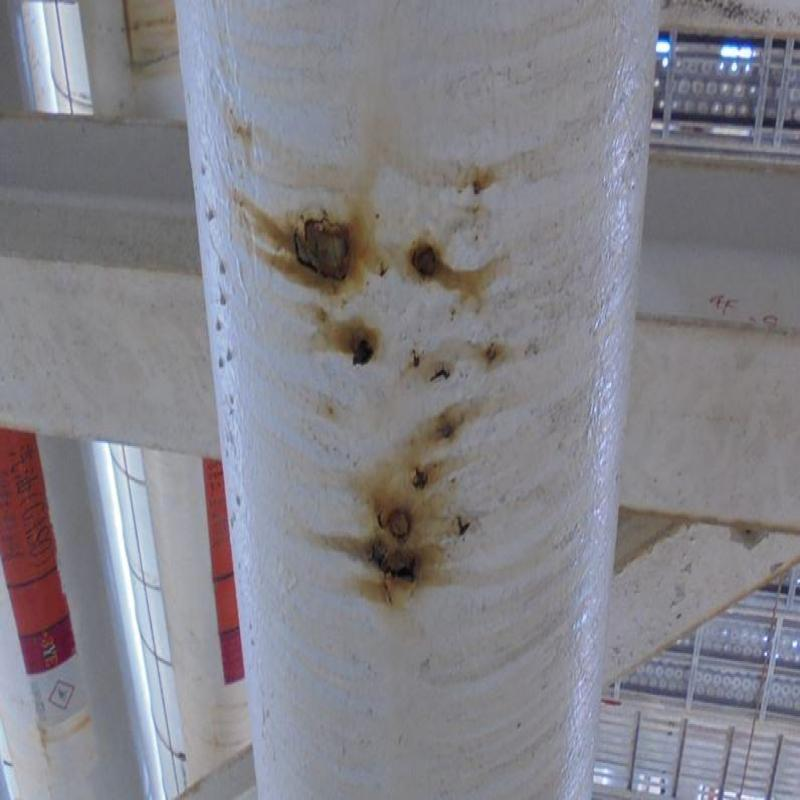Fracture: (375, 558, 423, 585), (434, 369, 450, 383)
corrosion: (297, 205, 352, 291), (380, 496, 425, 586), (411, 228, 439, 282), (353, 328, 373, 374), (416, 469, 431, 494)
